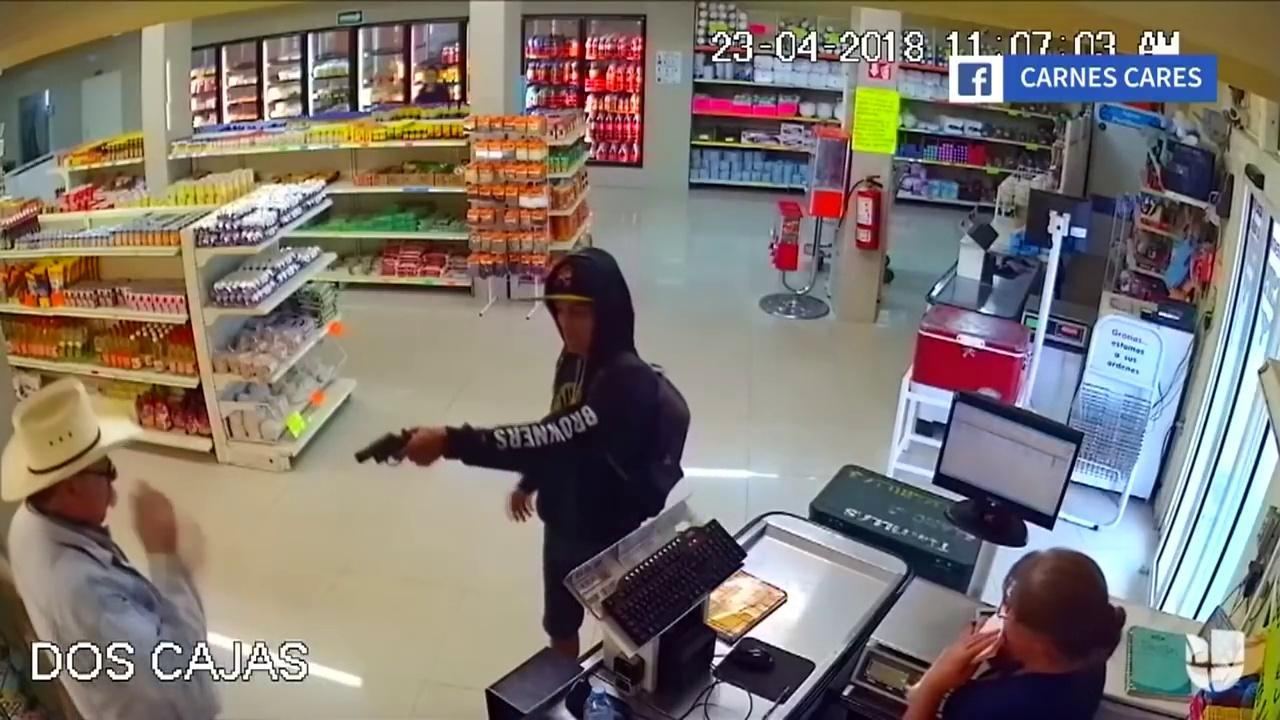Guns: (347, 410, 439, 492)
